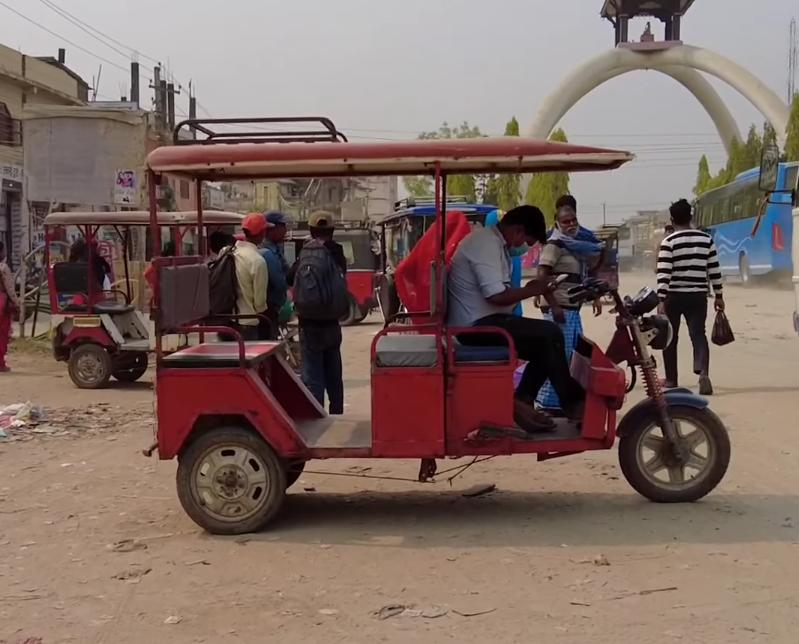bus: (690, 155, 799, 289)
e-rickshaw: (146, 98, 733, 537), (45, 198, 256, 386)
